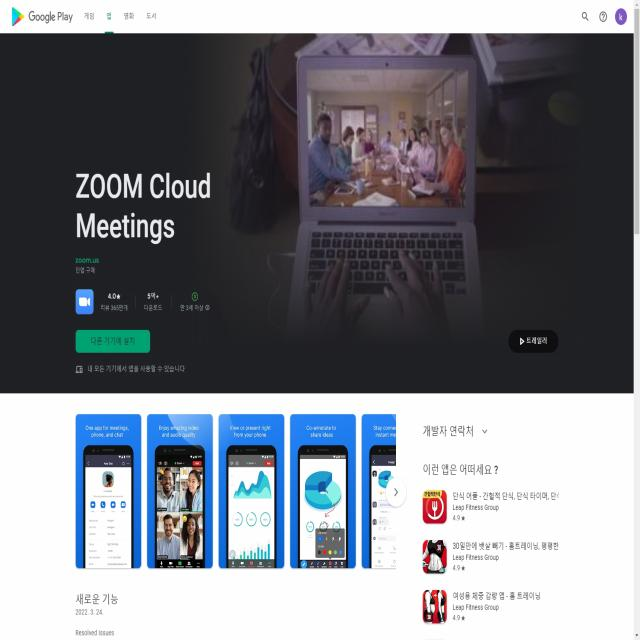menu-bar: (78, 3, 163, 31), (578, 2, 630, 31)
